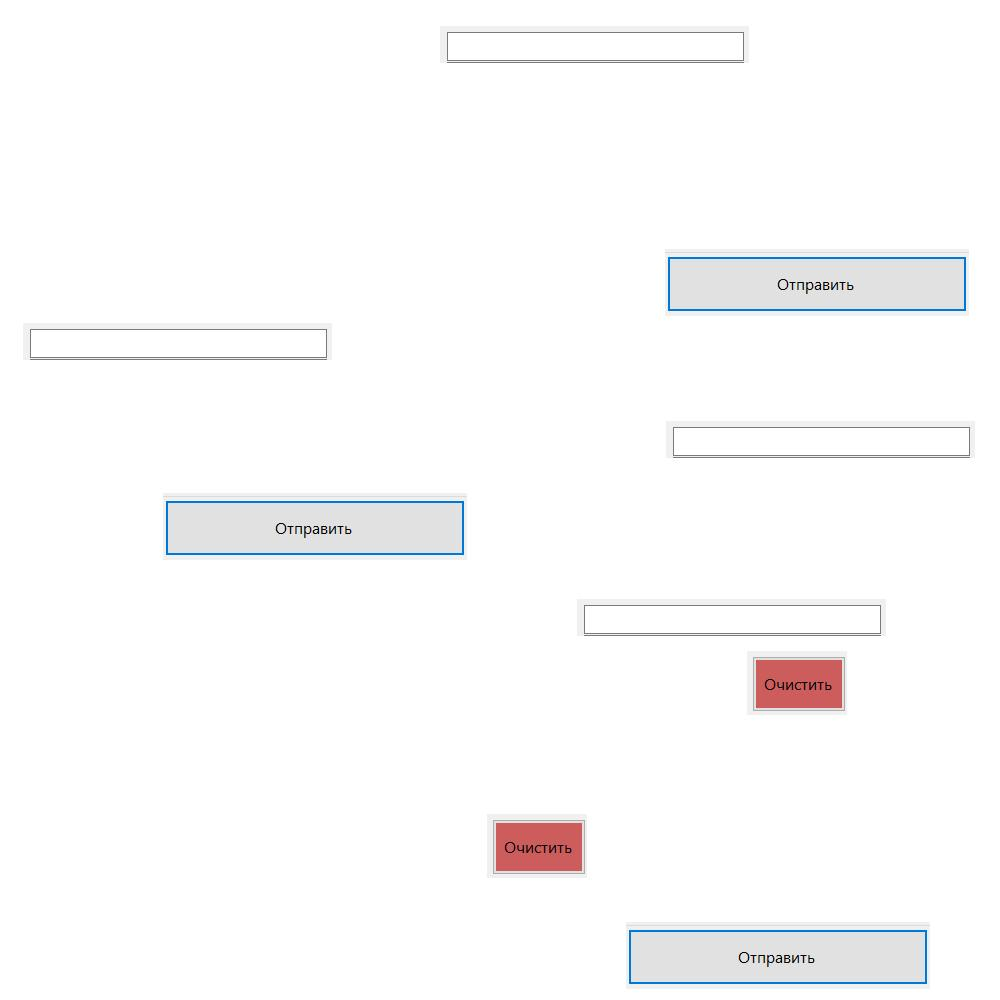Button: (665, 249, 969, 316), (163, 493, 467, 560), (626, 922, 930, 989), (487, 814, 587, 878), (747, 651, 847, 715)
EditText-: (440, 26, 749, 63), (666, 421, 975, 458), (577, 599, 886, 636), (23, 323, 332, 360)
